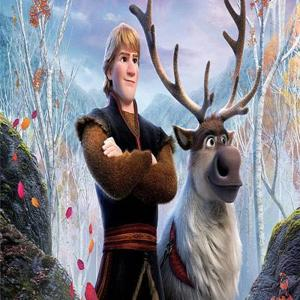sven: (142, 12, 260, 290)
